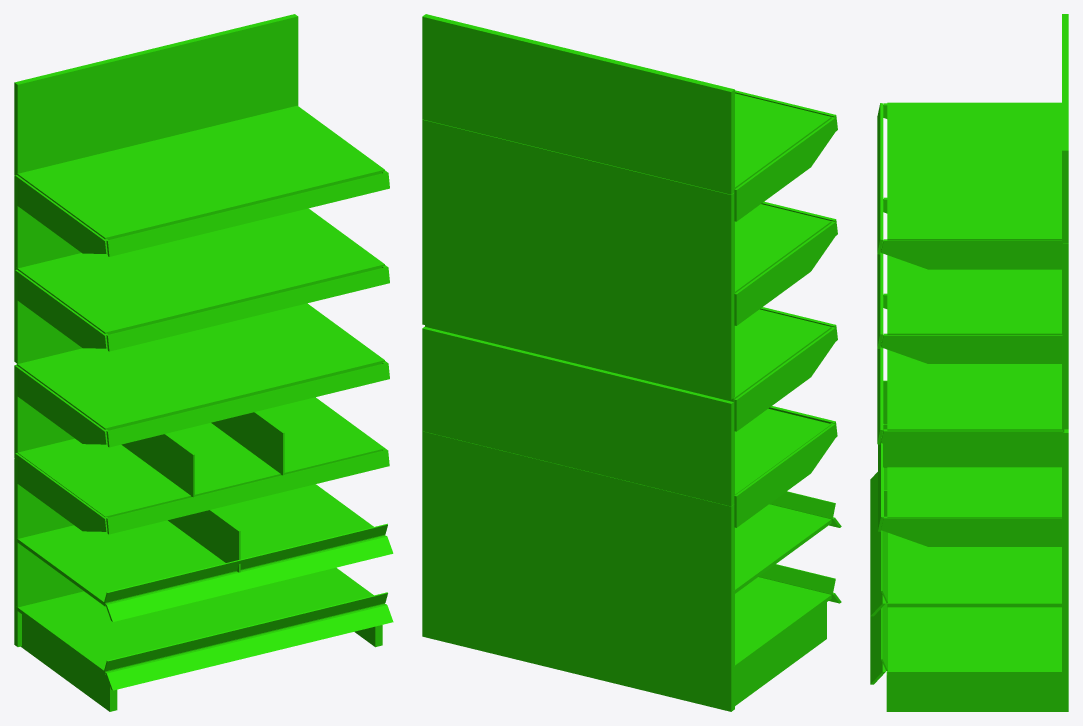
Rendered from Shop_Shelf_A_08_Lod0.fbx.
The picture shows the model from 3 angles, left to right: view 1: azimuth 30°, elevation 25°; view 2: azimuth 150°, elevation 25°; view 3: azimuth 270°, elevation 25°; orthographic projection. The views are drawn at different scales.
Parts seen in each view (by area): view 1: Shop_Shelf_A_08_Lod0; view 2: Shop_Shelf_A_08_Lod0; view 3: Shop_Shelf_A_08_Lod0.
Part boxes in pixels (bbox=[...]): Shop_Shelf_A_08_Lod0: bbox=[14, 14, 393, 711]; Shop_Shelf_A_08_Lod0: bbox=[422, 14, 841, 711]; Shop_Shelf_A_08_Lod0: bbox=[870, 14, 1068, 711].
Bounding box in the file's own units: 135 × 258 × 82.32.
